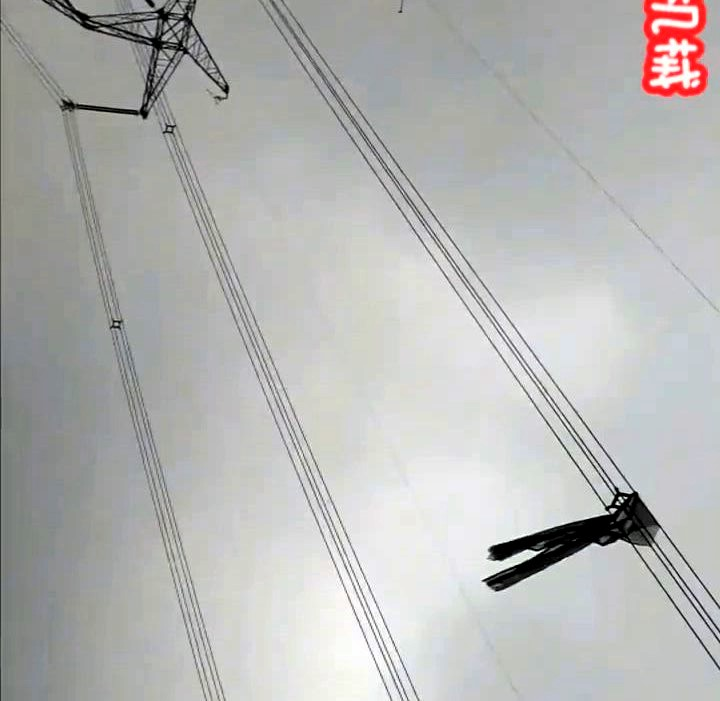wire foreign body: (460, 483, 670, 598)
